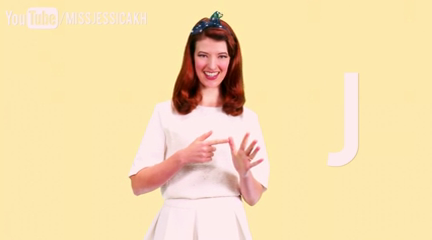J: (184, 127, 266, 180)
